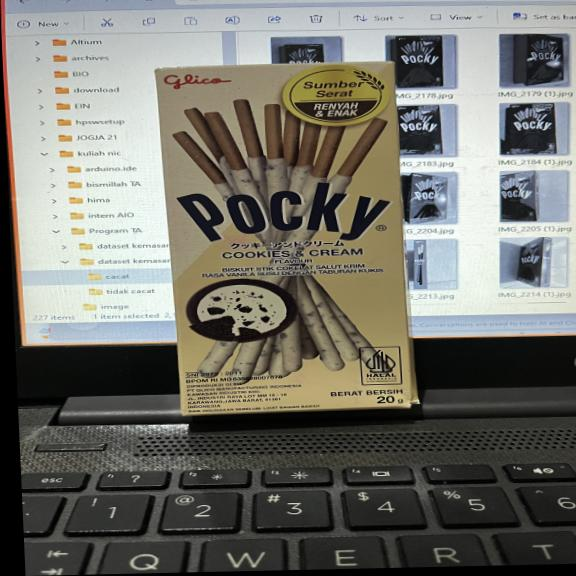Kertas: (151, 67, 422, 417)
